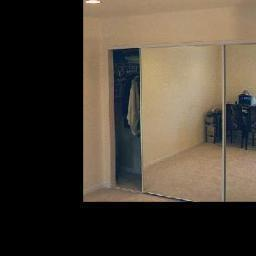Armario: (109, 45, 256, 201)
